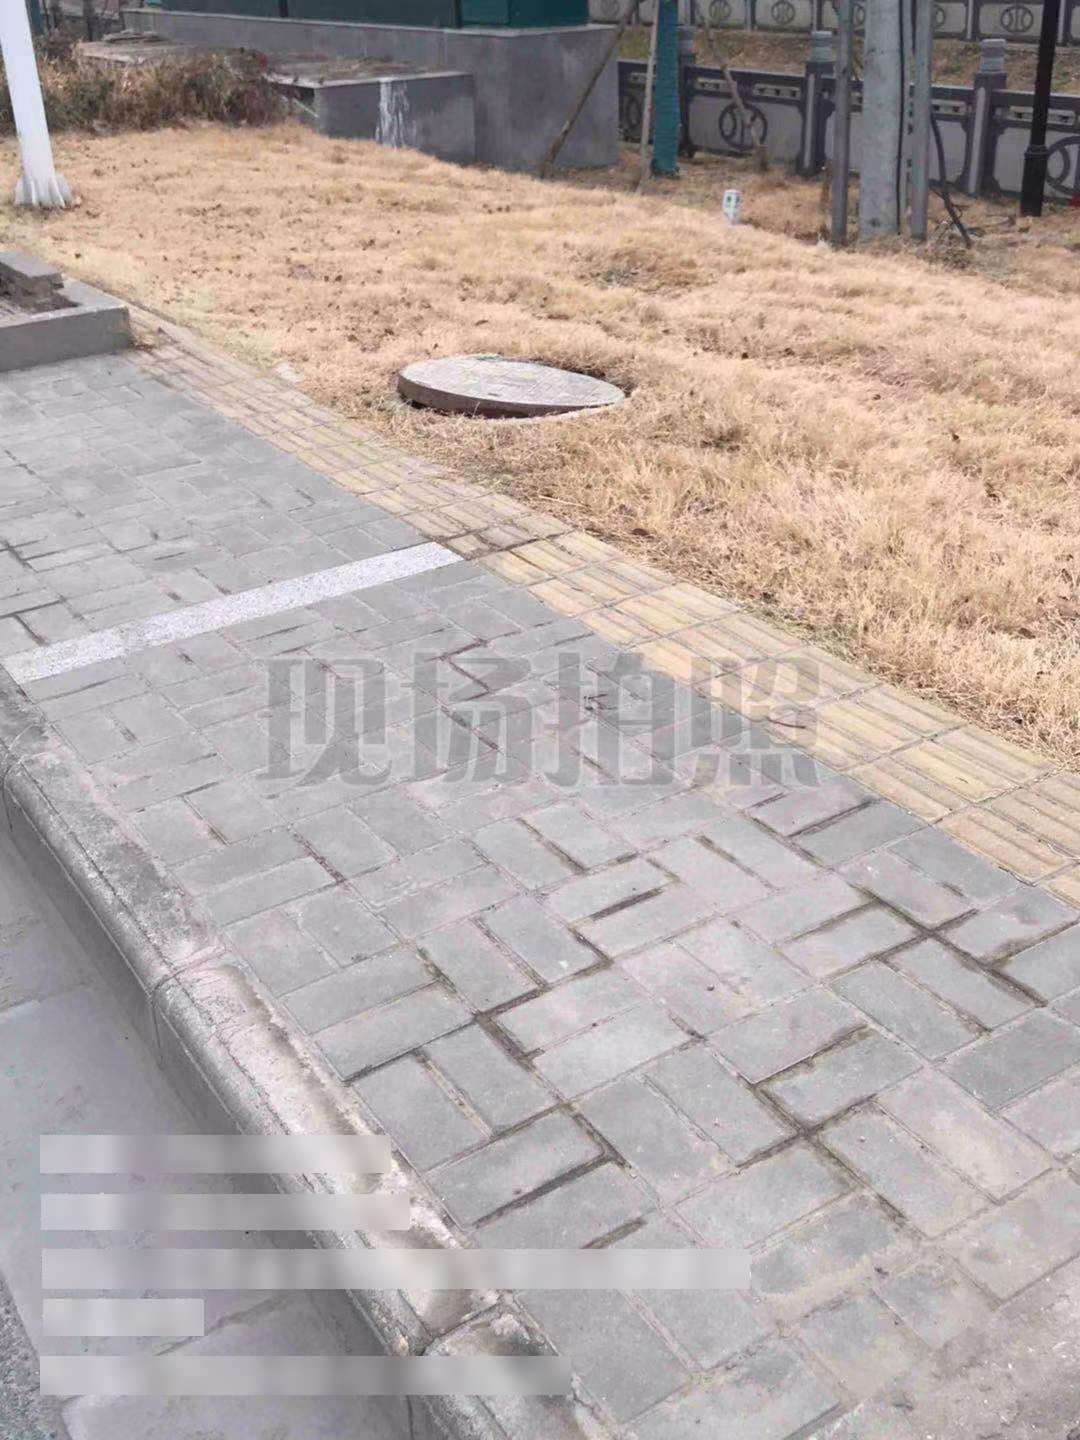uncovered: (394, 349, 625, 422)
